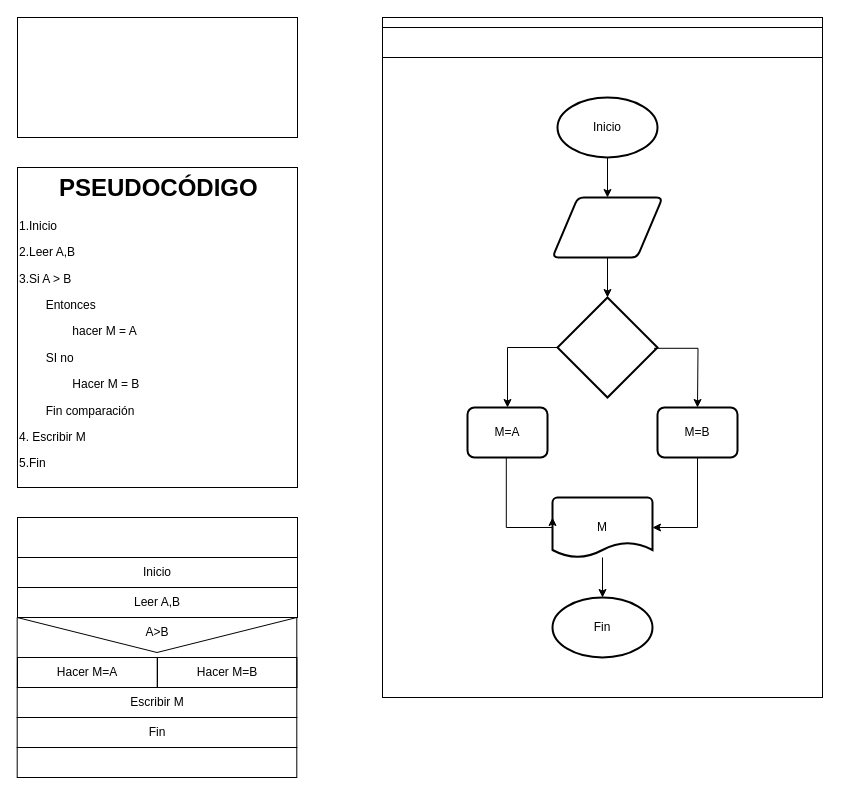
Some shapes in this 841 by 795 pixel diagram are drawn without their labels. Here are the shapes that lost their labels. From the top down, the box of each, then its label:
(382, 16, 822, 58): DIAGRAMA DE FLUJO
(16, 16, 298, 138): VARIABLES 1. A,B numeros solicitados (IR) 2.M Comparar (IR) 3. 4. 5.
(551, 196, 663, 258): A,B
(556, 296, 658, 398): M>B
(16, 516, 298, 558): DIAGRAMA N/S .
